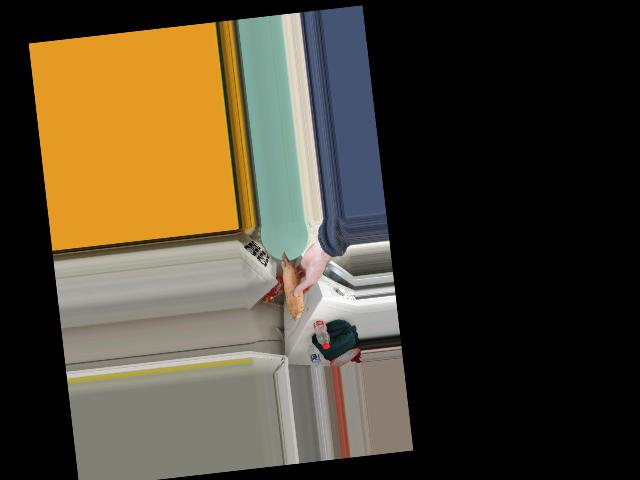sweet_potato: (279, 254, 308, 316)
